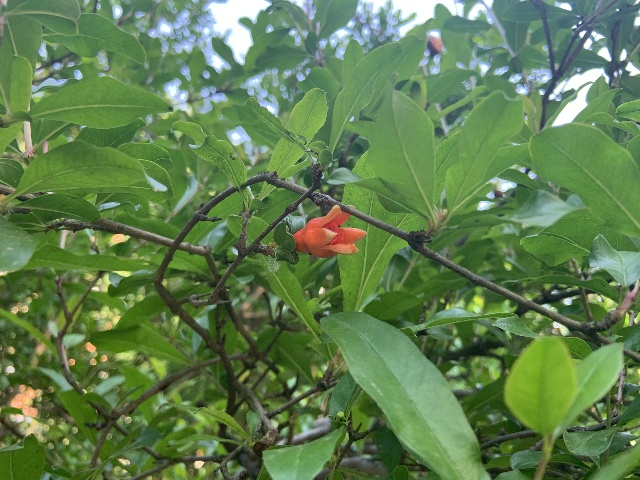flower: (292, 204, 366, 258)
